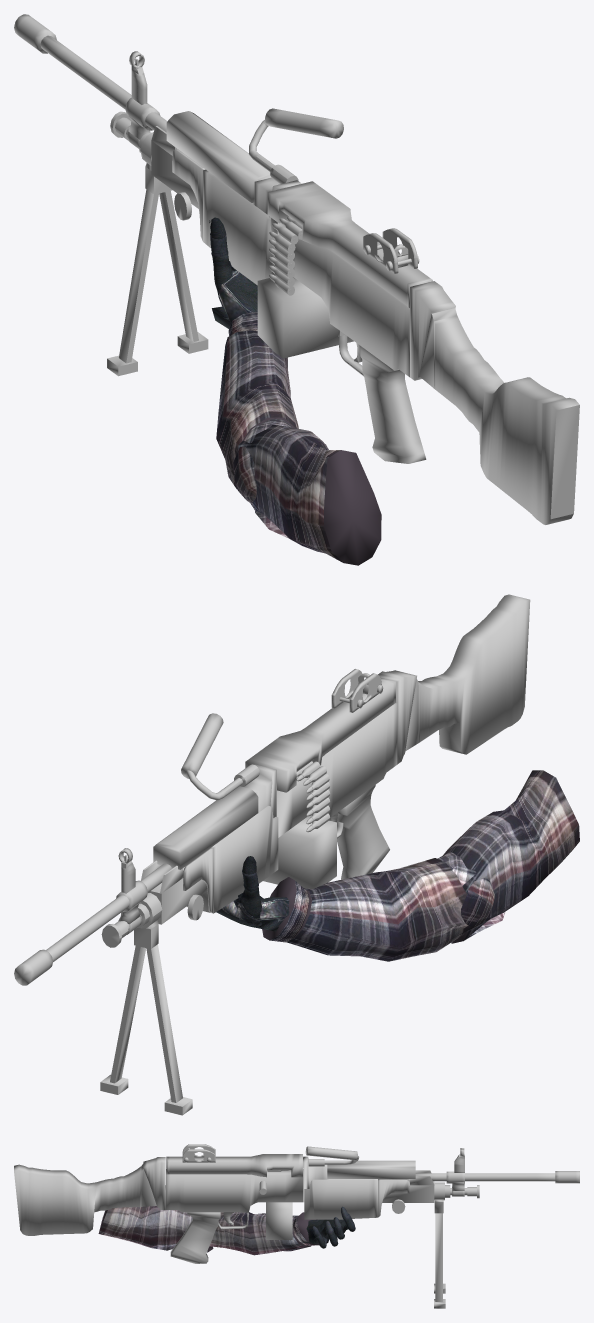
File: m249_ads_fire.fbx
3 renders of one model, top to bottom at view 1: azimuth 30°, elevation 25°; view 2: azimuth 150°, elevation 25°; view 3: azimuth 270°, elevation 25°, orthographic. The views are drawn at different scales.
Visible parts, largest first — view 1: larm, m249_stock, m249_body, m249_top, m249_grip, m249_bipod, m249_magazine, m249_pistol_grip, m249_cooler, m249_barrel, lhand, m249_front (+6 smaller); view 2: larm, m249_stock, m249_body, m249_grip, m249_top, m249_bipod, m249_cooler, m249_magazine, m249_pistol_grip, m249_barrel, lhand, m249_front (+5 smaller); view 3: m249_stock, m249_body, larm, m249_grip, m249_top, m249_pistol_grip, m249_cooler, m249_barrel, lhand, m249_front, m249_magazine, m249_bipod (+5 smaller).
Boxes of the visible parts, box(x1,y1,x2,y2) form: larm: box(216, 311, 381, 565); m249_stock: box(419, 308, 579, 524); m249_body: box(253, 177, 455, 380); m249_top: box(267, 181, 432, 307); m249_grip: box(172, 149, 275, 285); m249_bipod: box(107, 163, 208, 376); m249_magazine: box(257, 277, 353, 358); m249_pistol_grip: box(360, 346, 426, 463); m249_cooler: box(166, 111, 271, 202); m249_barrel: box(14, 14, 167, 132); lhand: box(209, 217, 257, 328); m249_front: box(151, 126, 198, 220); larm: box(262, 770, 579, 961); m249_stock: box(405, 594, 530, 754); m249_body: box(244, 670, 416, 837); m249_grip: box(183, 806, 278, 913); m249_top: box(245, 677, 395, 792); m249_bipod: box(100, 920, 192, 1115); m249_cooler: box(153, 786, 258, 869); m249_magazine: box(263, 816, 336, 888); m249_pistol_grip: box(337, 785, 389, 879); m249_barrel: box(14, 863, 172, 985); lhand: box(216, 856, 289, 931); m249_front: box(141, 860, 207, 924); m249_stock: box(14, 1164, 156, 1235); m249_body: box(143, 1156, 328, 1212); larm: box(98, 1206, 318, 1255); m249_grip: box(304, 1179, 409, 1219); m249_top: box(166, 1154, 302, 1177); m249_pistol_grip: box(170, 1212, 220, 1263); m249_cooler: box(327, 1160, 415, 1178); m249_barrel: box(415, 1171, 579, 1183); lhand: box(301, 1206, 355, 1248); m249_front: box(378, 1170, 434, 1213); m249_magazine: box(266, 1202, 292, 1239); m249_bipod: box(434, 1199, 445, 1308).
Bounding box in the file's own units: 11.48 × 16 × 49.37.
